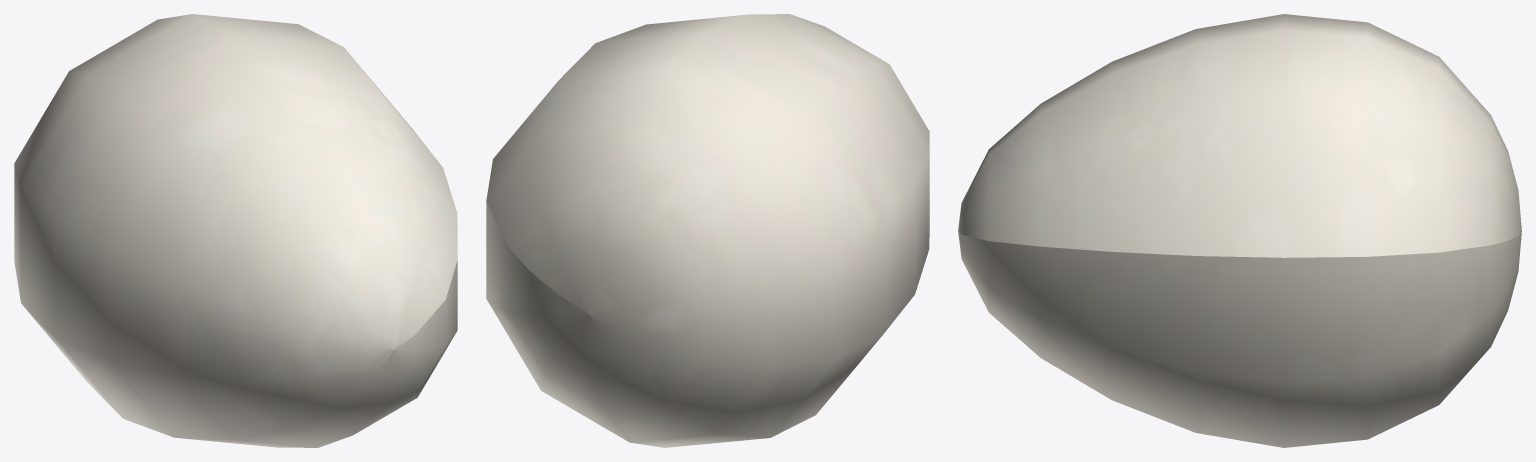
File: huevo_1.fbx
3 renders of one model, left to right at view 1: azimuth 30°, elevation 25°; view 2: azimuth 150°, elevation 25°; view 3: azimuth 270°, elevation 25°, orthographic.
Parts seen in each view (by area): view 1: s4studio_mesh_0; view 2: s4studio_mesh_0; view 3: s4studio_mesh_0.
Boxes of the visible parts, bbox=[...] form: s4studio_mesh_0: bbox=[14, 14, 457, 447]; s4studio_mesh_0: bbox=[486, 14, 929, 447]; s4studio_mesh_0: bbox=[958, 14, 1521, 447].
Bounding box in the file's own units: 5.59 × 5.88 × 7.5.
1 material, 1 textured.
